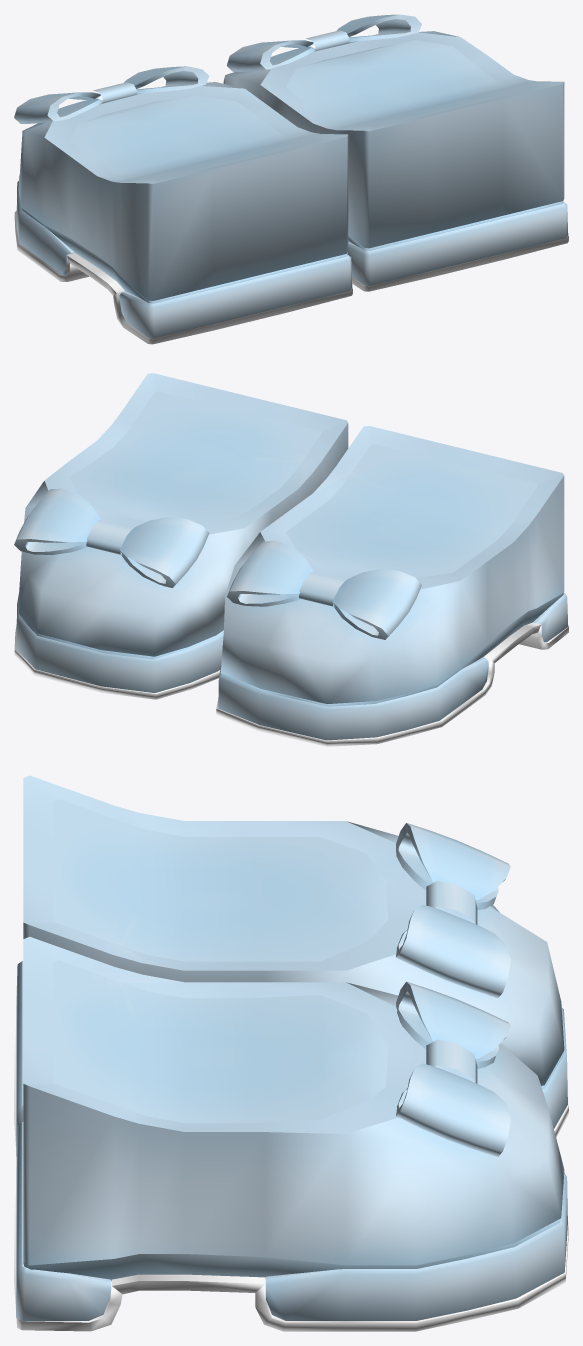
3 views of the same model, one above another, from view 1: azimuth 30°, elevation 25°; view 2: azimuth 150°, elevation 25°; view 3: azimuth 270°, elevation 25° (orthographic). The views are drawn at different scales.
Visible parts, largest first — view 1: geometry_0; view 2: geometry_0; view 3: geometry_0.
Boxes of the visible parts, x1=… form: geometry_0: x1=14, y1=14, x2=568, y2=344; geometry_0: x1=14, y1=373, x2=568, y2=746; geometry_0: x1=14, y1=775, x2=568, y2=1331.
Bounding box in the file's own units: 1.43 × 0.5106 × 1.06.
Materials: 1 (1 with a texture image).
